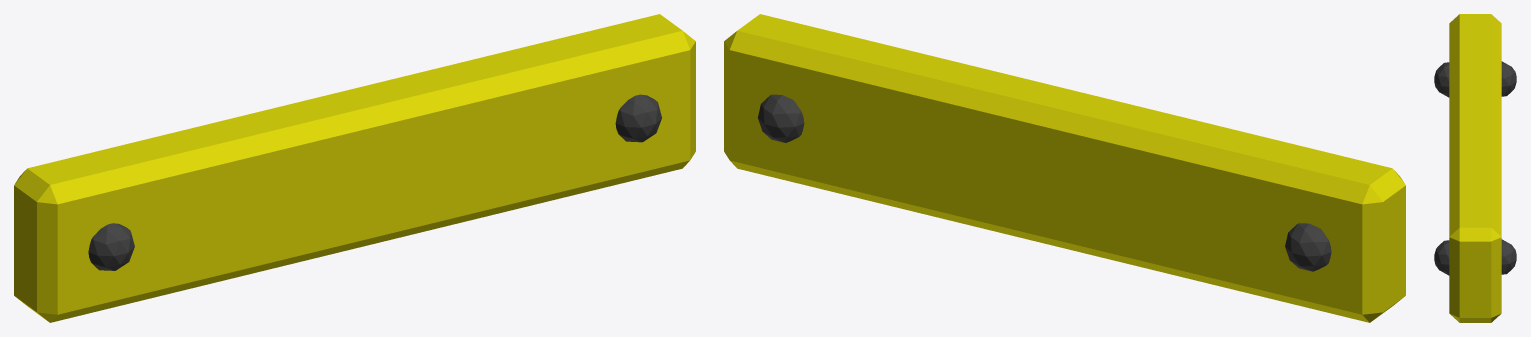
File: BarIE.fbx
3 views of the same model, side by side, from view 1: azimuth 30°, elevation 25°; view 2: azimuth 150°, elevation 25°; view 3: azimuth 270°, elevation 25° (orthographic). The views are drawn at different scales.
Visible parts, largest first — view 1: BarIE; view 2: BarIE; view 3: BarIE.
Boxes of the visible parts, x1,y1,x2,y2 form: BarIE: (14, 14, 695, 322); BarIE: (724, 14, 1405, 322); BarIE: (1434, 14, 1516, 322).
Bounding box in the file's own units: 1000 × 200 × 157.
